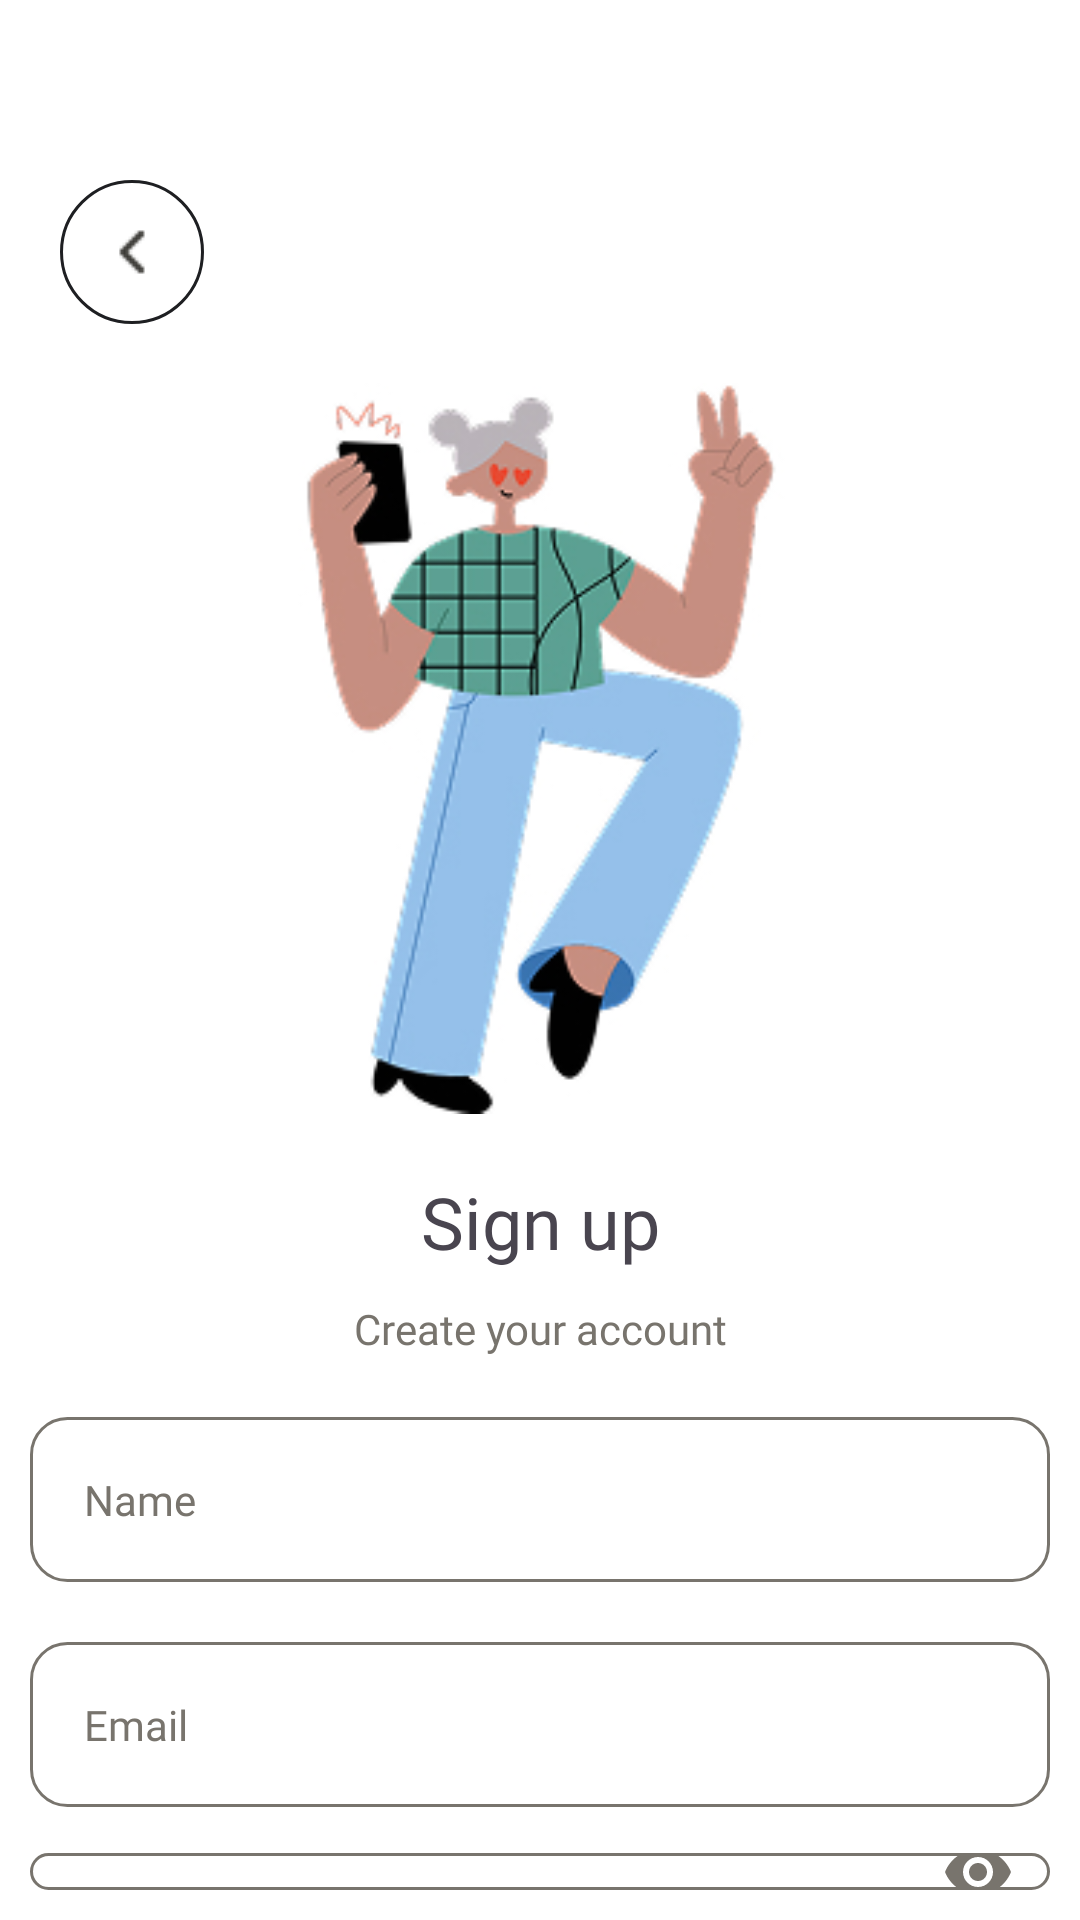

Icons on this 1080px×1920px Android screen, each with its box as [x1,y1,x2,y2]:
go back: [60,180,204,324]
